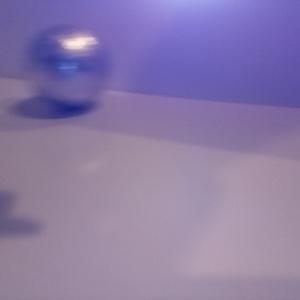alive_ball: (27, 24, 106, 107)
